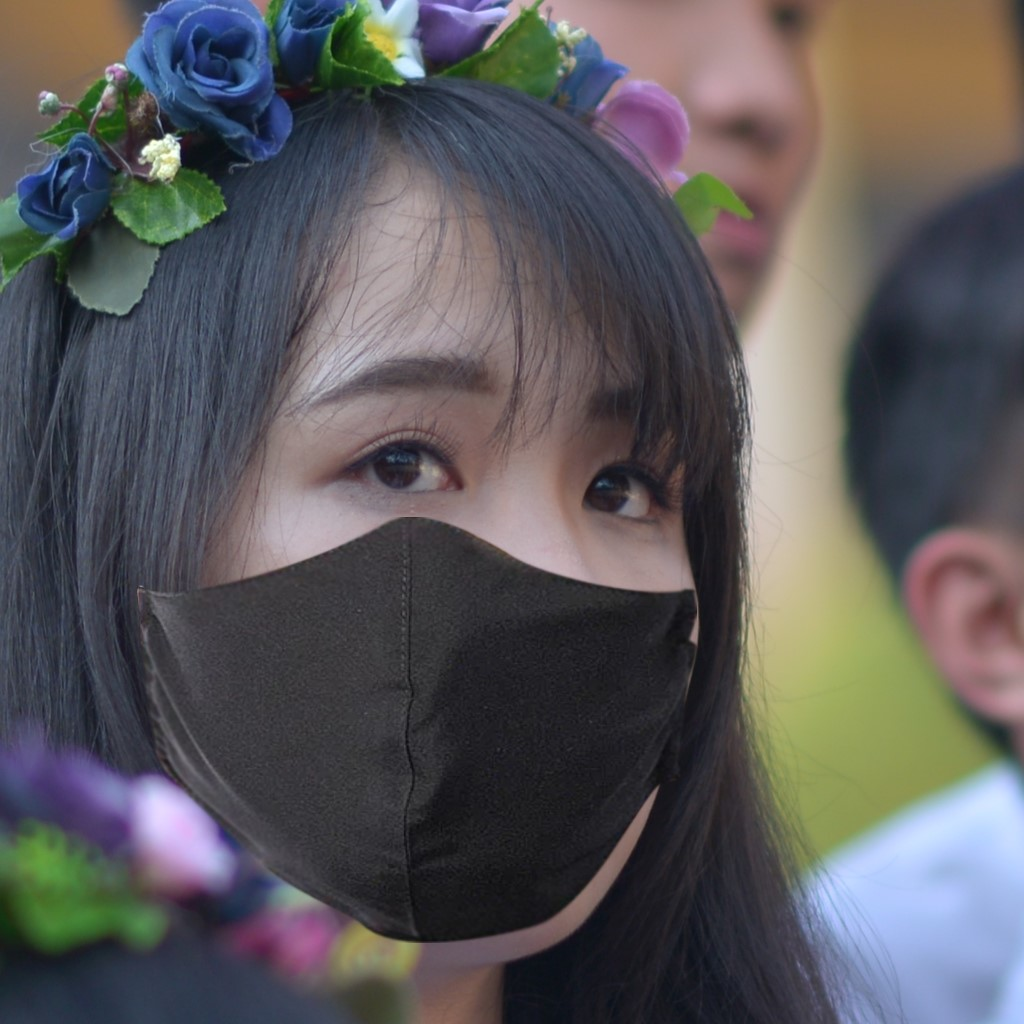con_mascara: (142, 168, 704, 938)
